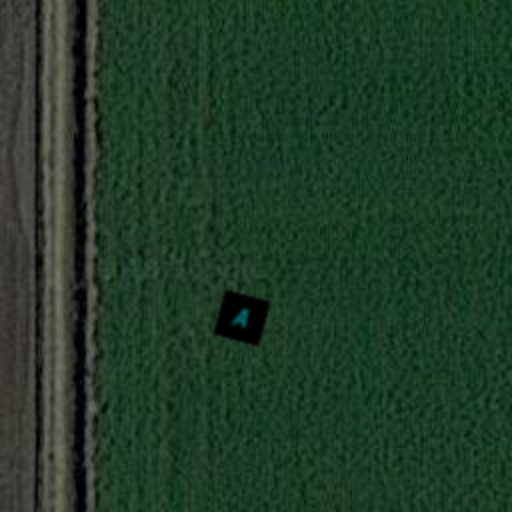rectangle: (212, 288, 272, 348)
